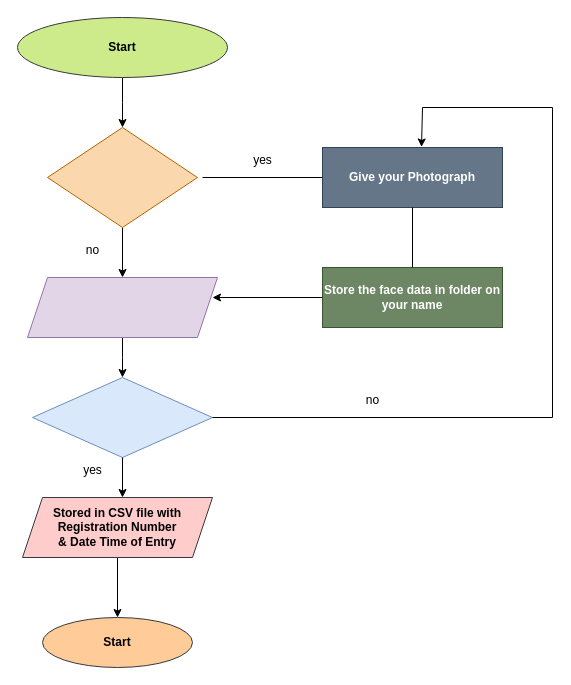
Image size: 571x685. Some labels were removed from this diagram. Each missing label, with the box of its shape:
Face Recognized: (32, 376, 212, 458)
New User: (46, 126, 198, 228)
Recognize the face: (26, 276, 218, 338)
